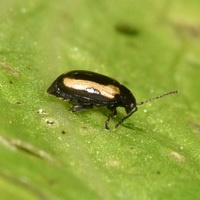insect: (47, 70, 178, 128)
